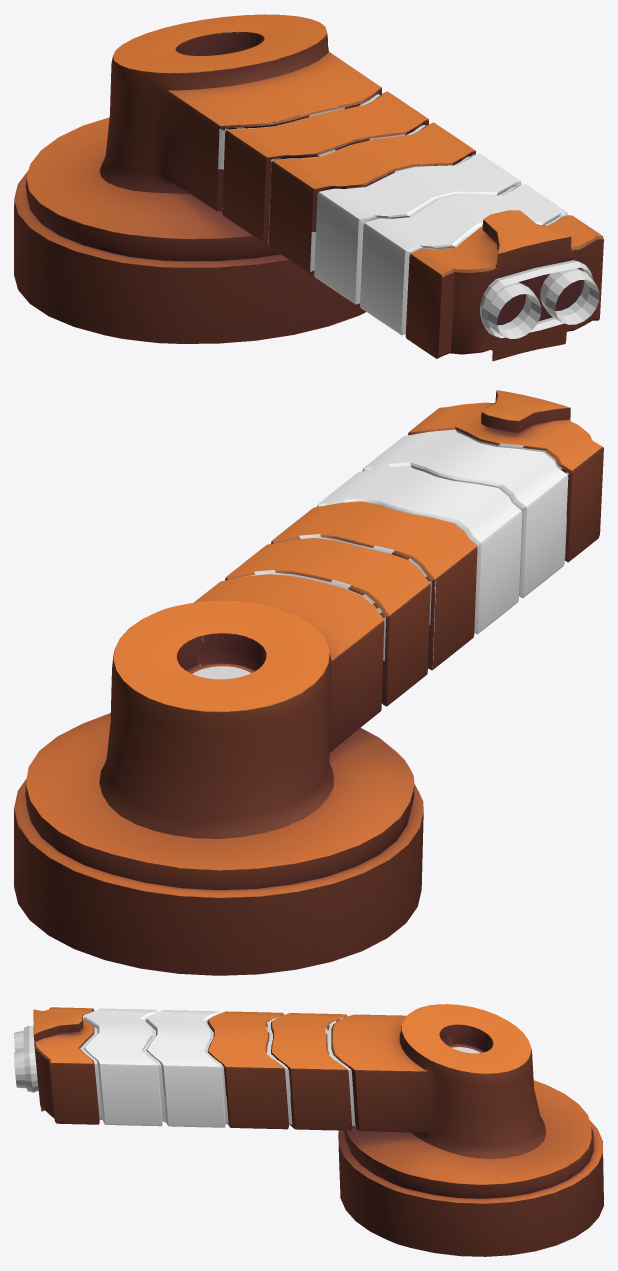
File: minigun.fbx
3 renders of one model, top to bottom at view 1: azimuth 30°, elevation 25°; view 2: azimuth 150°, elevation 25°; view 3: azimuth 270°, elevation 25°, orthographic. The views are drawn at different scales.
Visible parts, largest first — view 1: minigun; view 2: minigun; view 3: minigun.
Part boxes in pixels (box(x1,y1,x2,y2)): minigun: box(14, 14, 603, 361); minigun: box(14, 390, 603, 975); minigun: box(14, 1004, 603, 1256).
Bounding box in the file's own units: 86.75 × 61.9 × 180.
